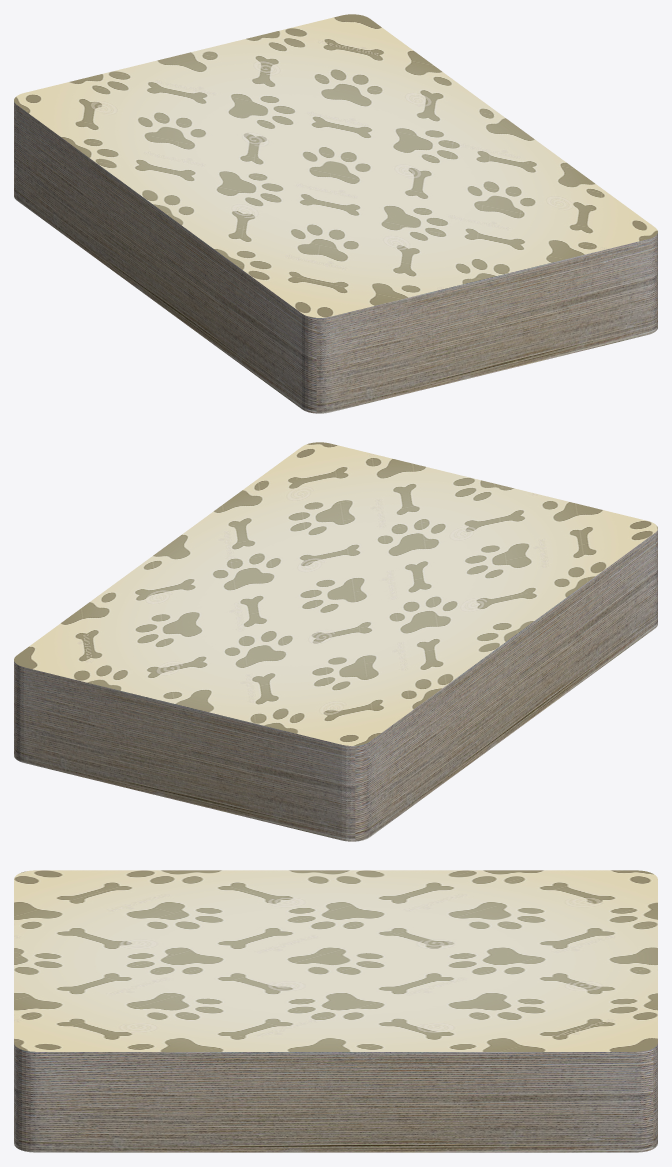
File: CardDeck.FBX
The picture shows the model from 3 angles, top to bottom: view 1: azimuth 30°, elevation 25°; view 2: azimuth 150°, elevation 25°; view 3: azimuth 270°, elevation 25°; orthographic projection. The views are drawn at different scales.
Parts seen in each view (by area): view 1: CardDeck; view 2: CardDeck; view 3: CardDeck.
Part boxes in pixels (<box>): CardDeck: <box>14,14,657,413</box>; CardDeck: <box>14,442,657,841</box>; CardDeck: <box>14,870,657,1152</box>.
Bounding box in the file's own units: 4 × 1.04 × 6.
2 materials, 2 textured.
